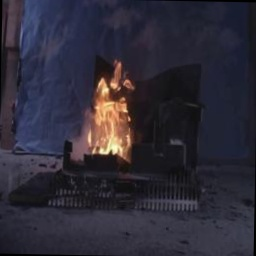fire: (82, 52, 140, 166)
